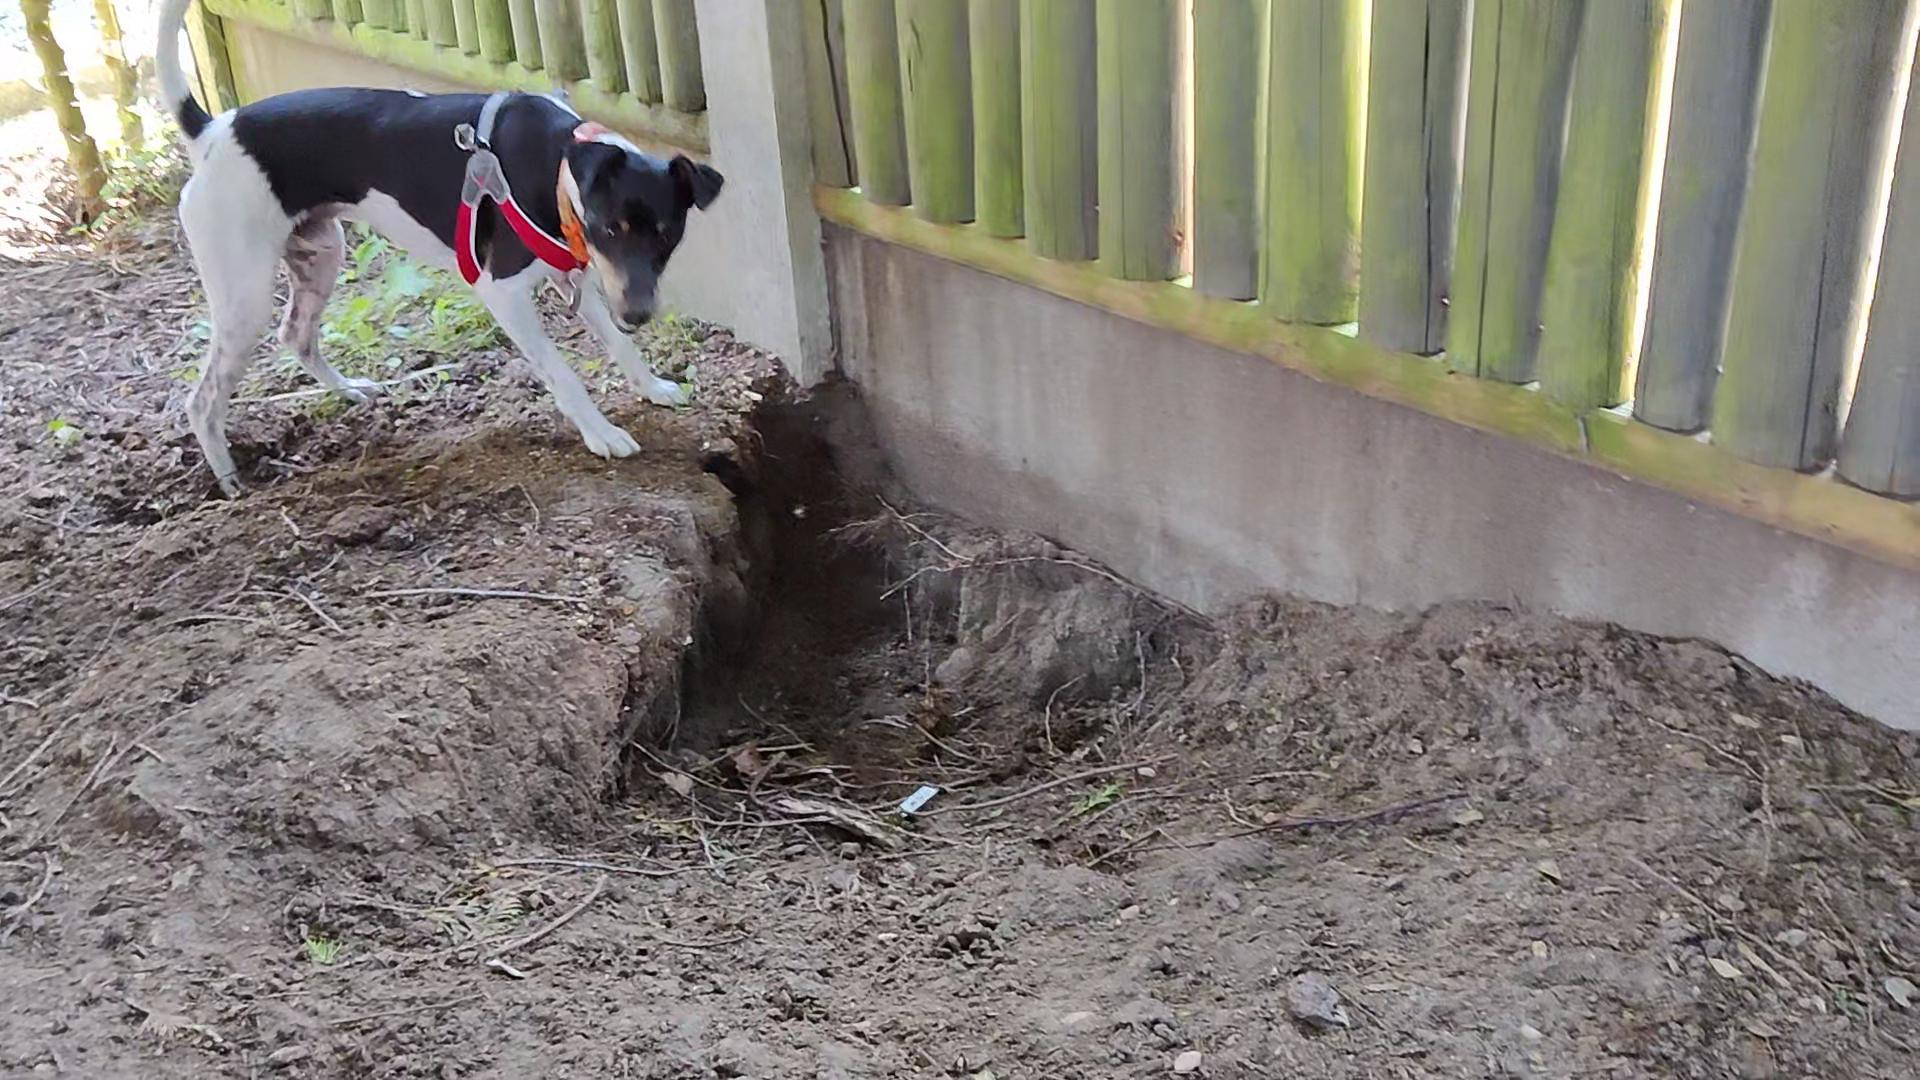Dog: (145, 0, 732, 535)
